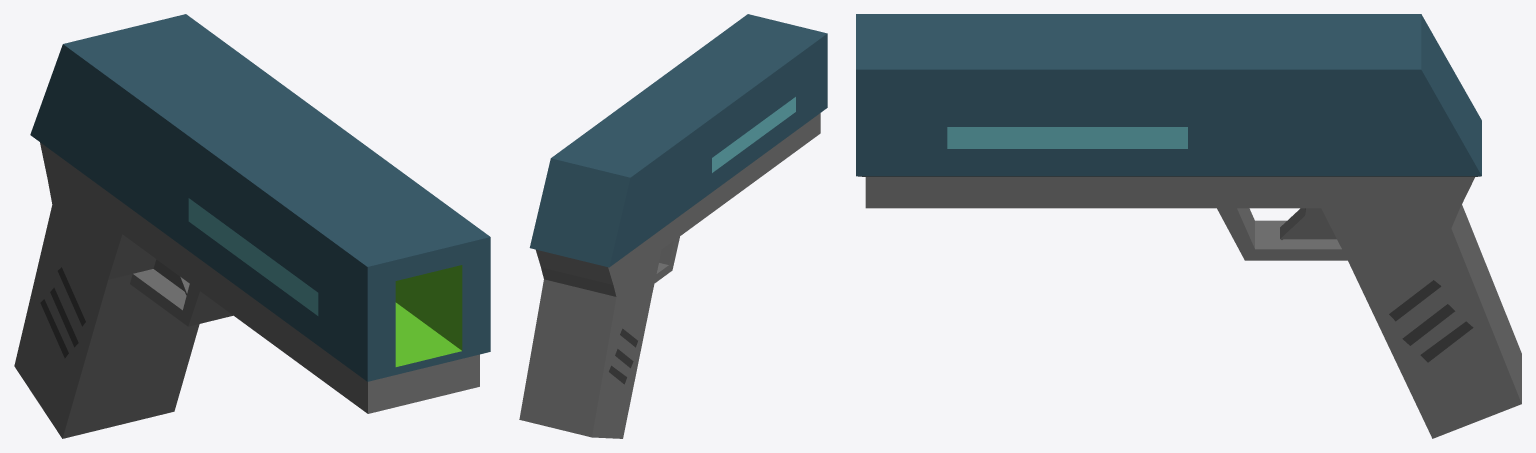
Rendered from PISTOLA.fbx.
The picture shows the model from 3 angles, left to right: view 1: azimuth 30°, elevation 25°; view 2: azimuth 150°, elevation 25°; view 3: azimuth 270°, elevation 25°; orthographic projection. The views are drawn at different scales.
Visible parts, largest first — view 1: Cube; view 2: Cube; view 3: Cube, Cube.001.
Part boxes in pixels (<box>): Cube: <box>14,14,490,438</box>; Cube: <box>519,14,827,438</box>; Cube: <box>856,14,1521,438</box>; Cube.001: <box>1280,208,1336,239</box>.
Bounding box in the file's own units: 37.85 × 118 × 191.
